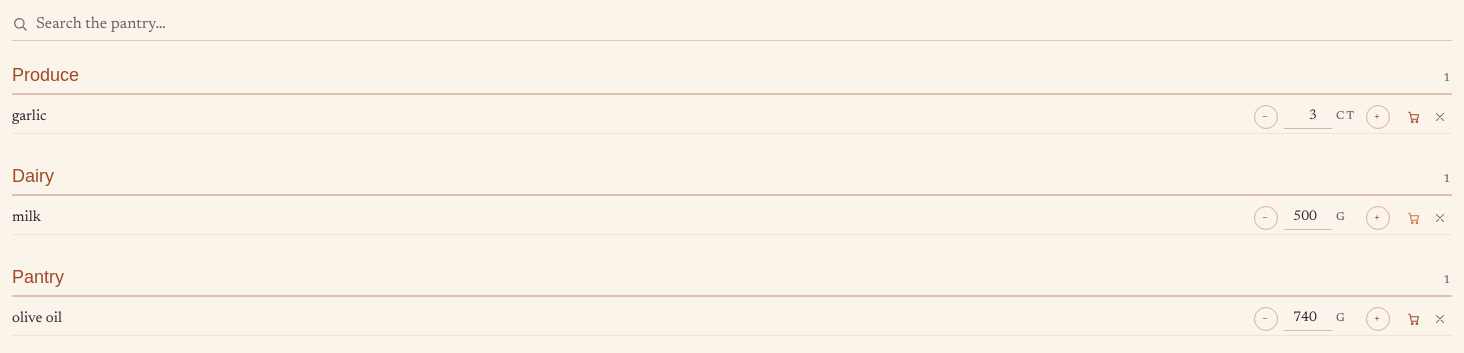
Scenario: PantryView › X depletes: row disappears and a toast offers Undo and Add to list
Click the button named "Out of garlic — remove from pantry" at [1440, 117], box x1=1428 y1=105 x2=1452 y2=129
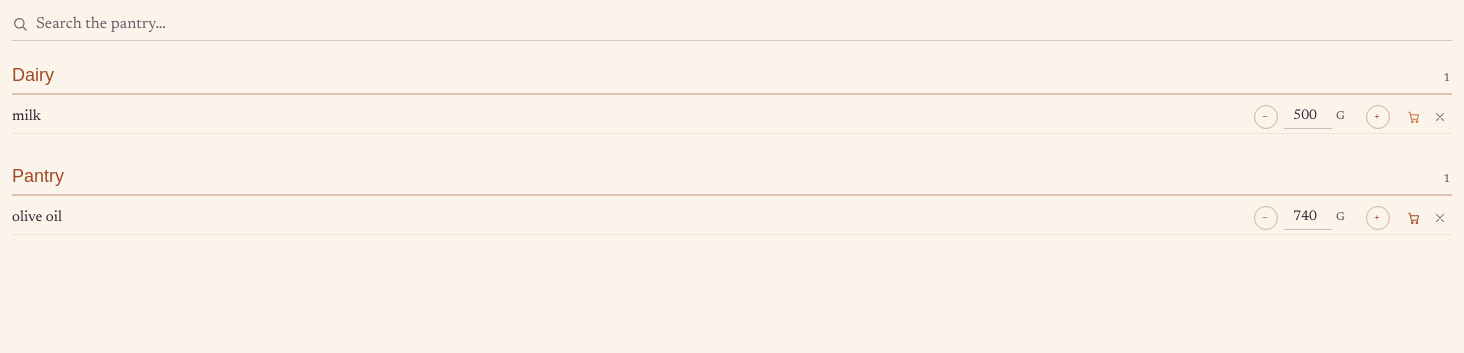
Check: the text "garlic" is gone
